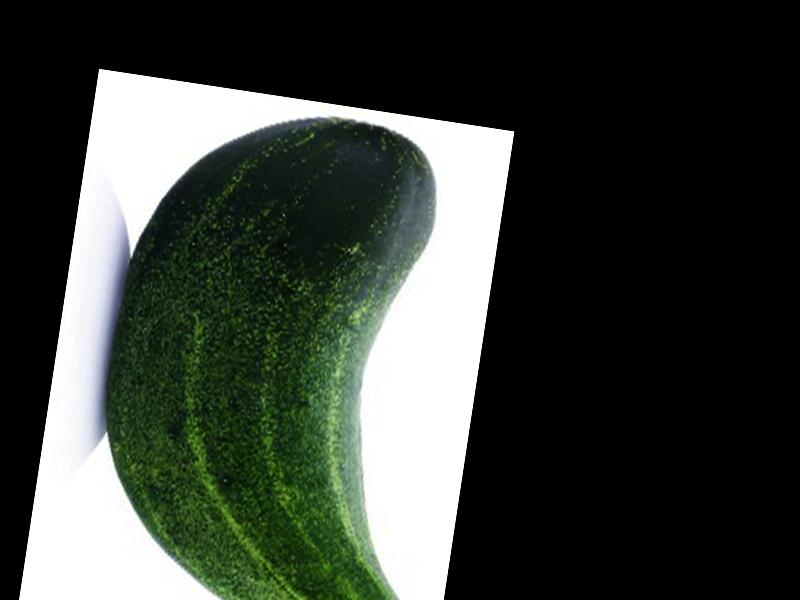Cucumber: (73, 89, 477, 600)
